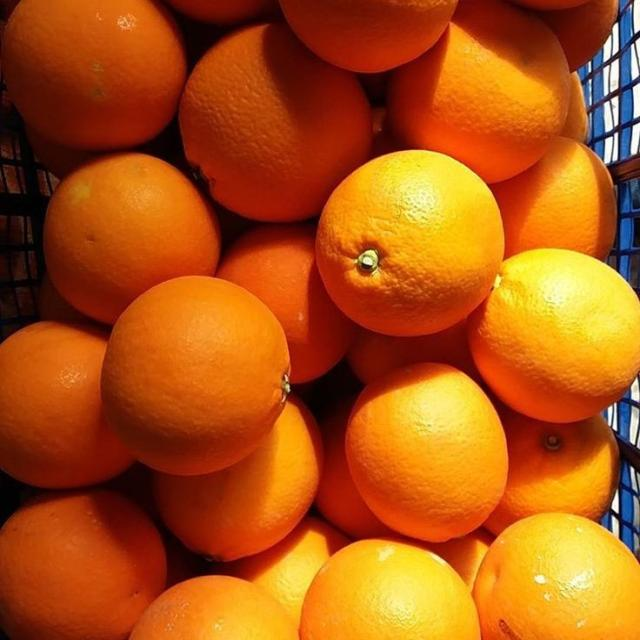orange: (180, 23, 372, 222), (102, 277, 288, 474), (317, 151, 503, 336), (389, 0, 569, 182), (44, 152, 220, 323), (467, 249, 639, 422), (346, 363, 507, 541), (154, 396, 322, 560), (2, 0, 186, 149), (0, 490, 166, 639), (0, 322, 133, 488), (217, 224, 353, 383), (474, 514, 639, 639), (300, 540, 479, 639), (485, 408, 619, 534), (492, 137, 617, 259), (280, 0, 457, 72), (230, 517, 349, 624), (315, 398, 391, 539), (130, 576, 298, 639), (347, 320, 479, 384), (539, 0, 618, 71), (428, 529, 493, 588), (26, 127, 95, 179), (104, 462, 159, 522), (166, 0, 277, 24), (37, 273, 91, 322), (164, 534, 204, 588), (561, 72, 588, 142), (370, 107, 400, 158), (358, 72, 390, 109), (510, 0, 586, 11)
